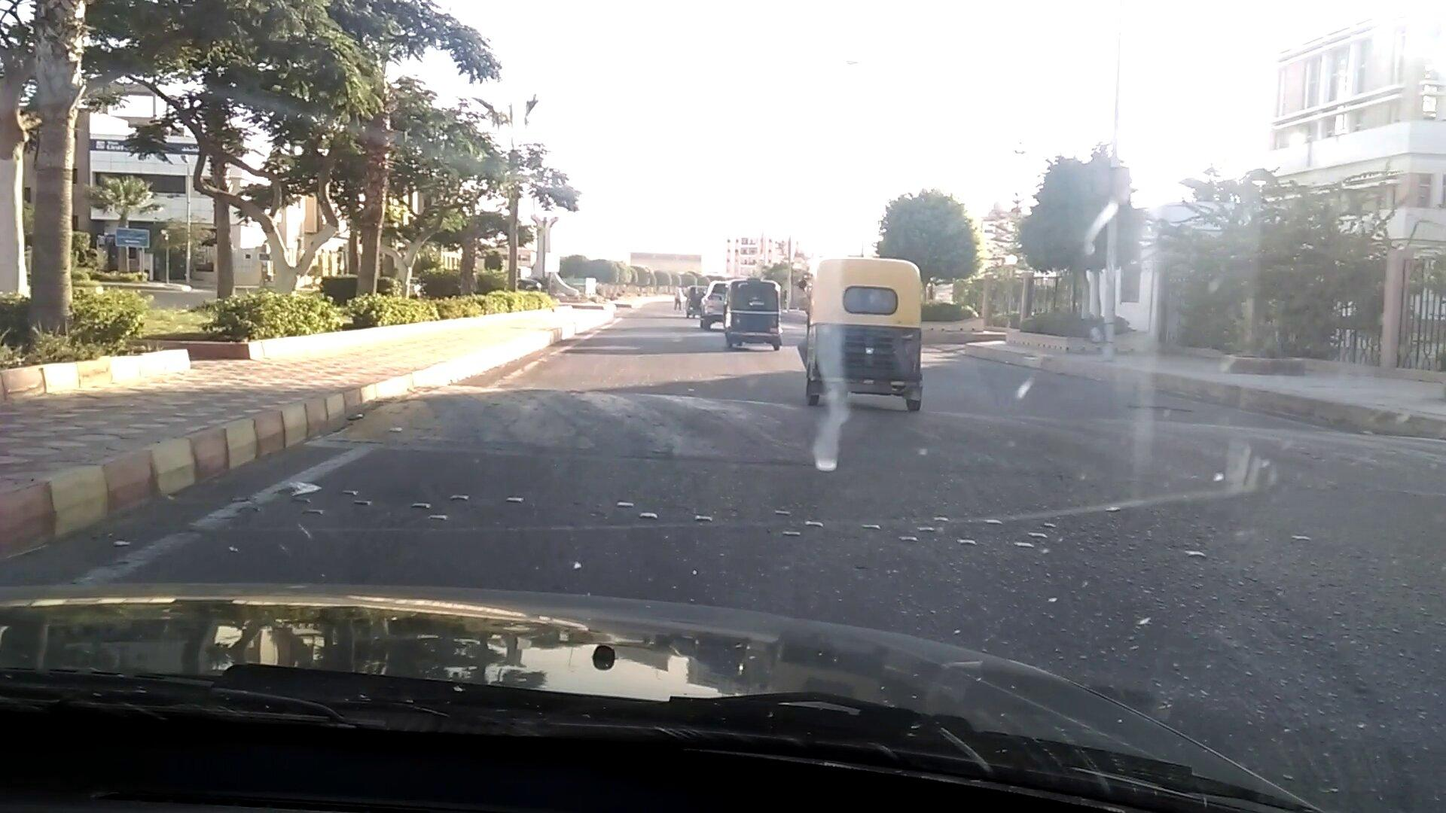Bump: (369, 363, 1446, 495)
